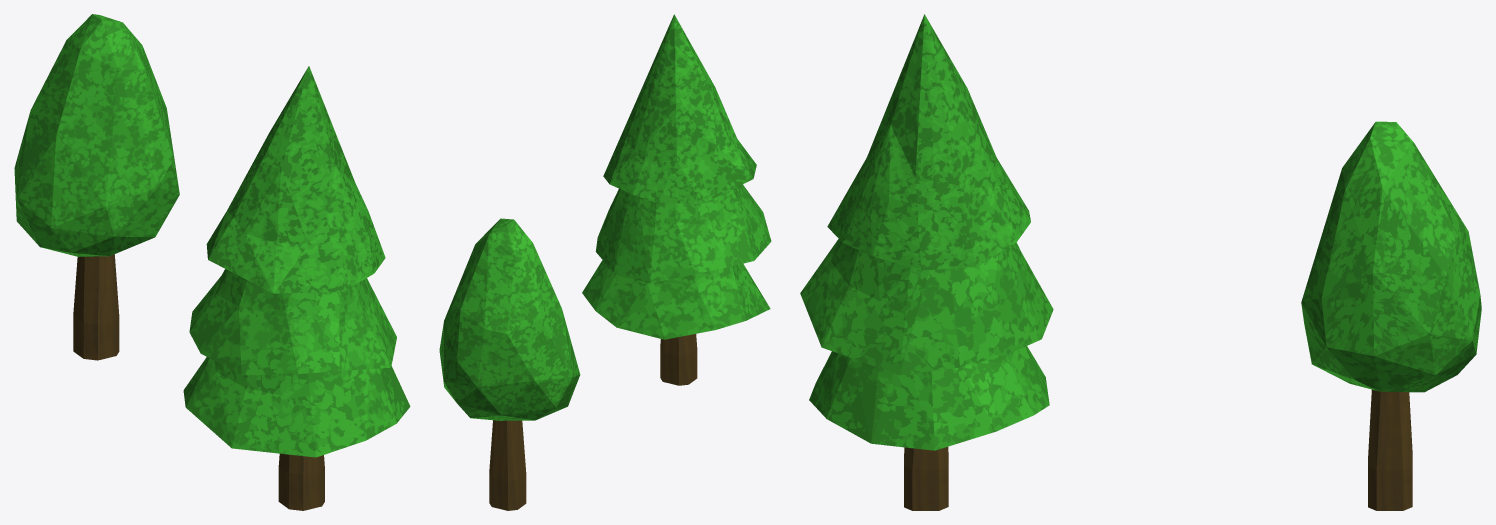
File: Tree1.glb
3 renders of one model, left to right at view 1: azimuth 30°, elevation 25°; view 2: azimuth 150°, elevation 25°; view 3: azimuth 270°, elevation 25°, orthographic. The views are drawn at different scales.
Parts seen in each view (by area): view 1: Icosphere, Cone.002, Cone.001, Cone, Cube, Cube.001; view 2: Icosphere, Cone.002, Cone.001, Cone, Cube, Cube.001; view 3: Icosphere, Cone.002, Cone.001, Cone, Cube, Cube.001.
Boxes of the visible parts, left/top/right/bottom form: Icosphere: left=14, top=14, right=179, bottom=256; Cone.002: left=206, top=66, right=385, bottom=293; Cone.001: left=189, top=269, right=396, bottom=375; Cone: left=183, top=357, right=410, bottom=457; Cube: left=73, top=254, right=119, bottom=360; Cube.001: left=278, top=453, right=324, bottom=510; Icosphere: left=439, top=218, right=580, bottom=420; Cone.002: left=603, top=14, right=756, bottom=203; Cone.001: left=595, top=184, right=771, bottom=283; Cone: left=582, top=260, right=770, bottom=339; Cube: left=489, top=420, right=526, bottom=510; Cube.001: left=660, top=334, right=697, bottom=385; Icosphere: left=1301, top=121, right=1481, bottom=392; Cone.002: left=827, top=14, right=1030, bottom=270; Cone.001: left=800, top=239, right=1053, bottom=375; Cone: left=809, top=346, right=1049, bottom=450; Cube: left=1368, top=389, right=1412, bottom=510; Cube.001: left=904, top=447, right=948, bottom=510.
Bounding box in the file's own units: 11.54 × 24.26 × 30.51.
6 materials, 6 textured.
